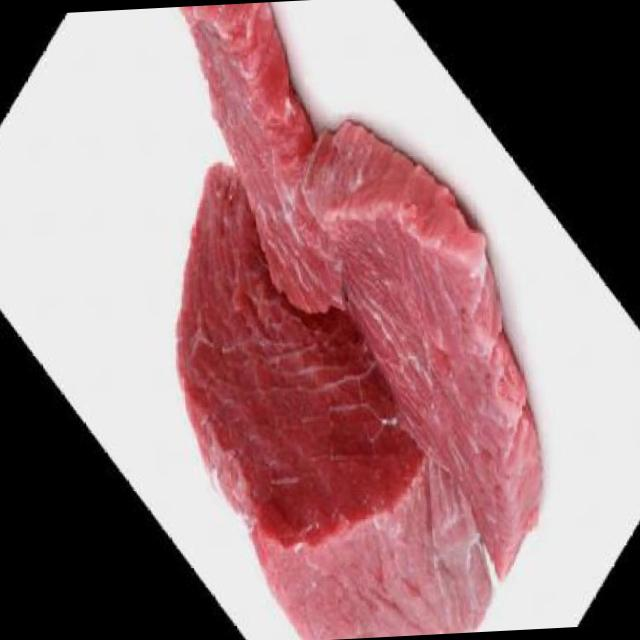beef: (154, 0, 559, 640)
